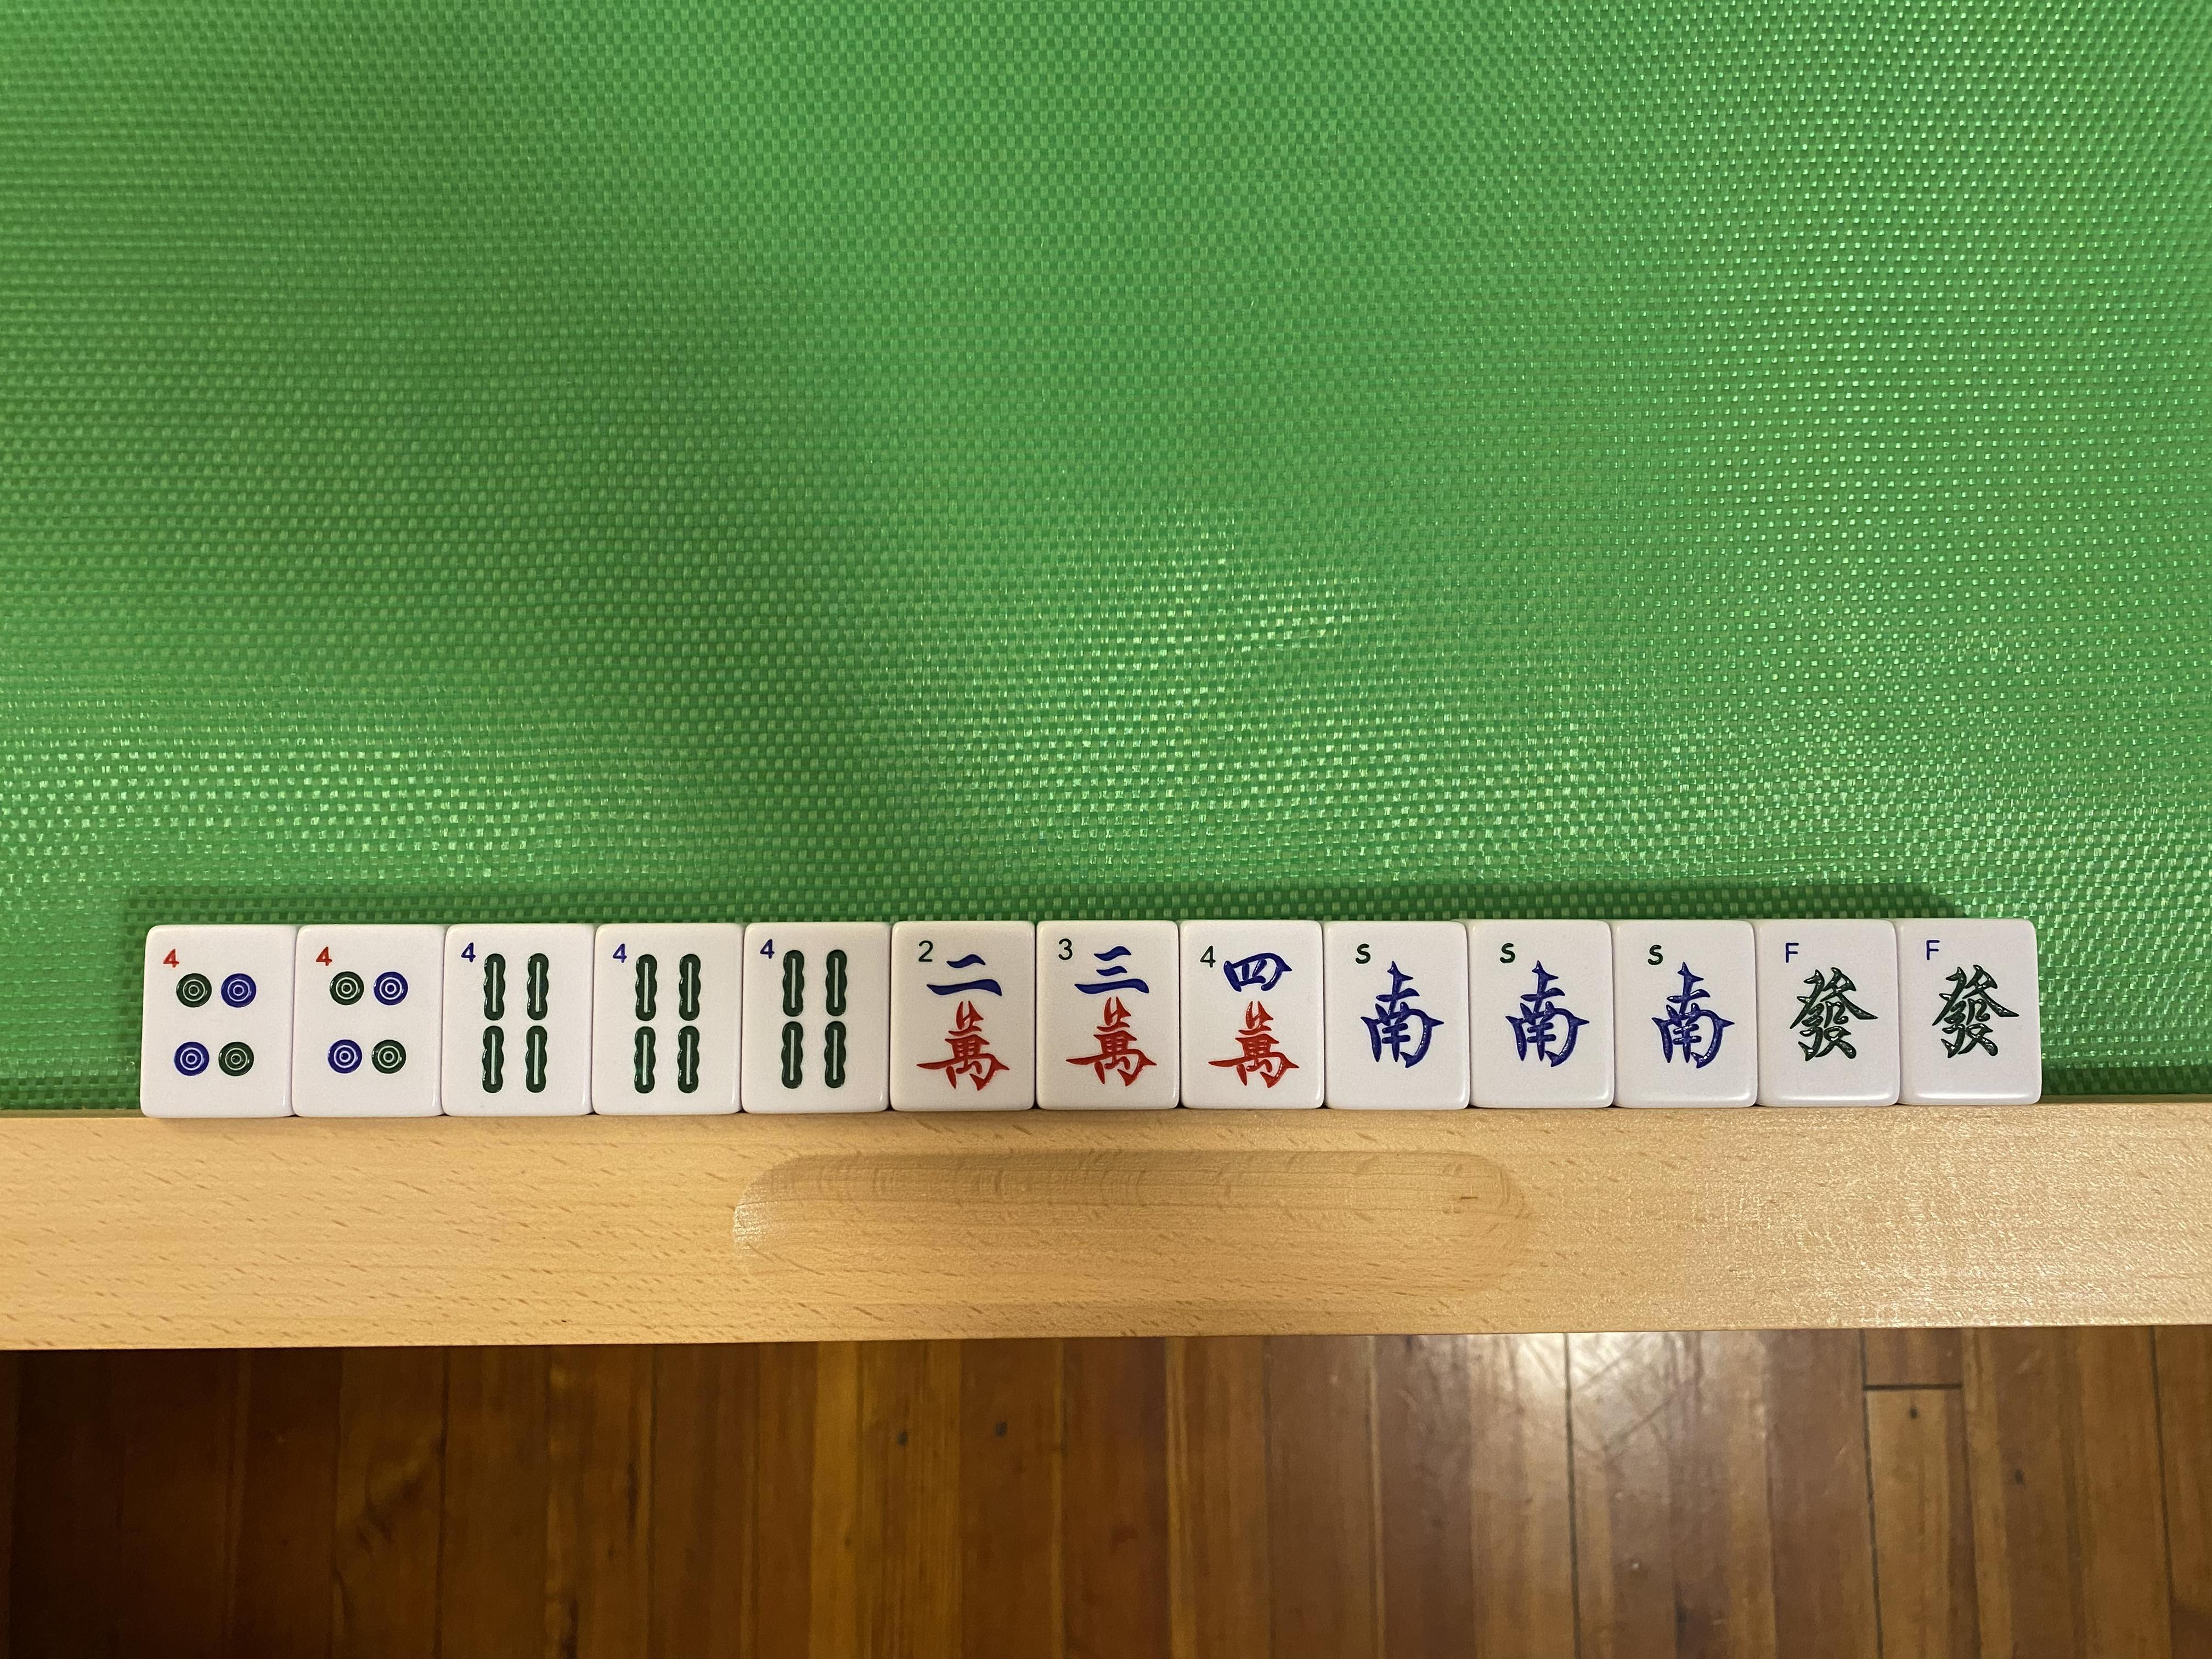bamboo-four: (749, 931, 887, 1105), (451, 931, 583, 1108), (597, 929, 726, 1107)
character-four: (1183, 925, 1318, 1107)
character-three: (1042, 925, 1174, 1108)
character-two: (894, 929, 1031, 1101)
circle-four: (152, 934, 280, 1105), (307, 938, 432, 1110)
honor-green_dragon: (1764, 929, 1893, 1098), (1907, 927, 2034, 1096)
honor-south_wind: (1475, 924, 1609, 1107), (1331, 927, 1461, 1107), (1620, 927, 1750, 1100)
